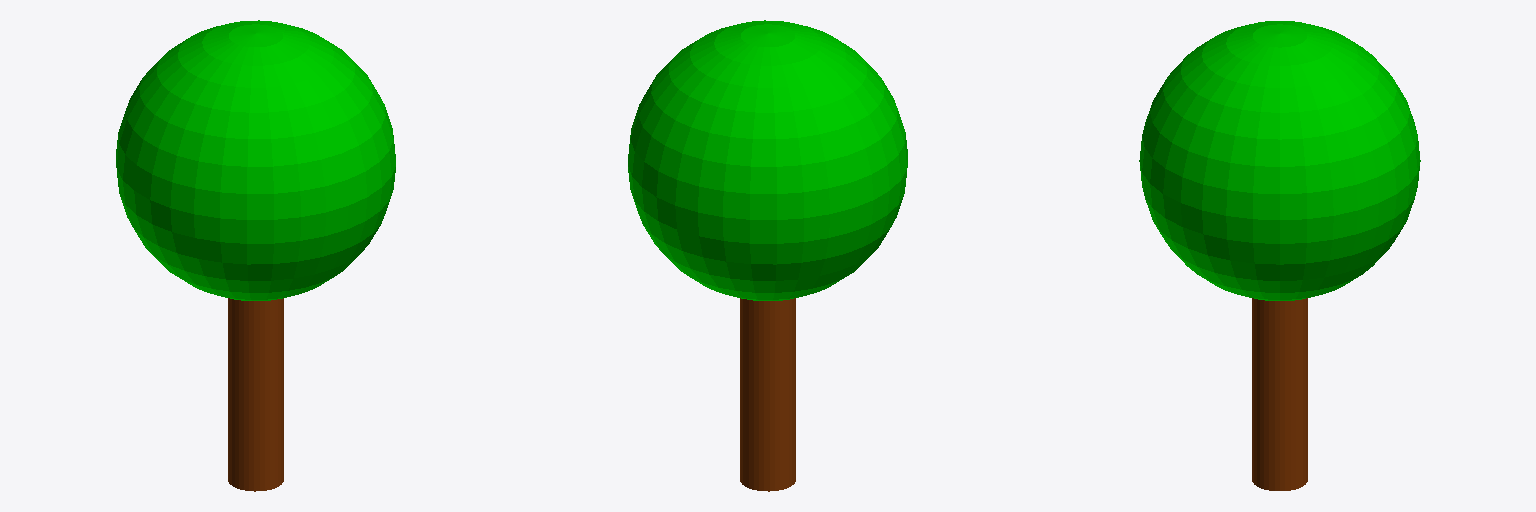
robot.urdf — simple_tree:
<?xml version="1.0"?>
<robot name="simple_tree">

  <!-- Tree Trunk -->
  <link name="trunk">
    <visual>
      <geometry>
        <cylinder length="2.0" radius="0.2"/>
      </geometry>
      <material name="brown">
        <color rgba="0.55 0.27 0.07 1"/>
      </material>
      <origin xyz="0 0 1" rpy="0 0 0"/>
    </visual>
  </link>

  <!-- Tree Canopy (top sphere representing leaves) -->
  <link name="canopy">
    <visual>
      <geometry>
        <sphere radius="1.0"/>
      </geometry>
      <material name="green">
        <color rgba="0 0.8 0 1"/>
      </material>
      <origin xyz="0 0 1.25" rpy="0 0 0"/>
    </visual>
  </link>

  <!-- Connecting Trunk and Canopy -->
  <joint name="trunk_to_canopy" type="fixed">
    <parent link="trunk"/>
    <child link="canopy"/>
    <origin xyz="0 0 1.25" rpy="0 0 0"/>
  </joint>


</robot>

--- What the picture shows (computed from the rendered views, not written in the file) ---
The picture shows the robot from 3 angles, left to right: view 1: azimuth 30°, elevation 25°; view 2: azimuth 150°, elevation 25°; view 3: azimuth 270°, elevation 25°; orthographic projection.
Robot: simple_tree — 2 links, 1 joints (1 fixed); root link trunk; default pose: all joints at 0.
Links seen in each view (by area): view 1: canopy, trunk; view 2: canopy, trunk; view 3: canopy, trunk.
Boxes of the visible links, x1=… form: canopy: x1=116, y1=20, x2=395, y2=300; trunk: x1=228, y1=298, x2=283, y2=491; canopy: x1=628, y1=20, x2=907, y2=300; trunk: x1=740, y1=298, x2=795, y2=491; canopy: x1=1139, y1=21, x2=1420, y2=300; trunk: x1=1252, y1=298, x2=1307, y2=490.
Size in the robot's own frame: 2 by 2 by 3.5 metres.
Geometry: primitives only (box / cylinder / sphere), no mesh files.